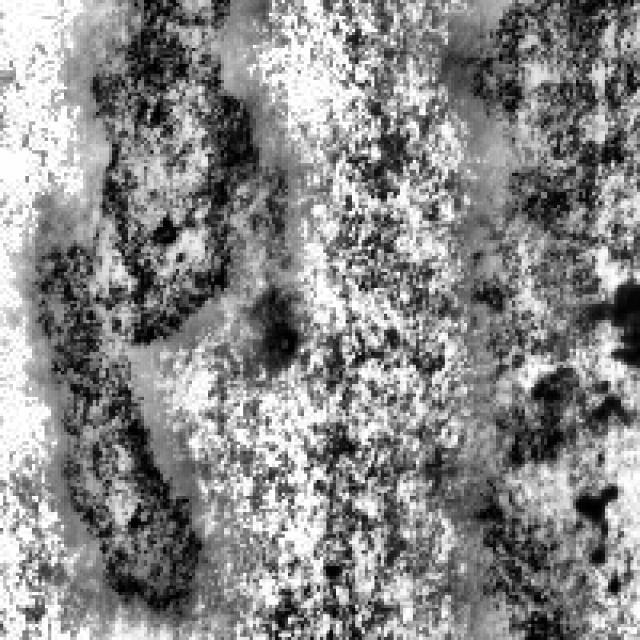Scratches: (16, 0, 269, 608), (458, 0, 636, 394), (454, 374, 582, 630)
